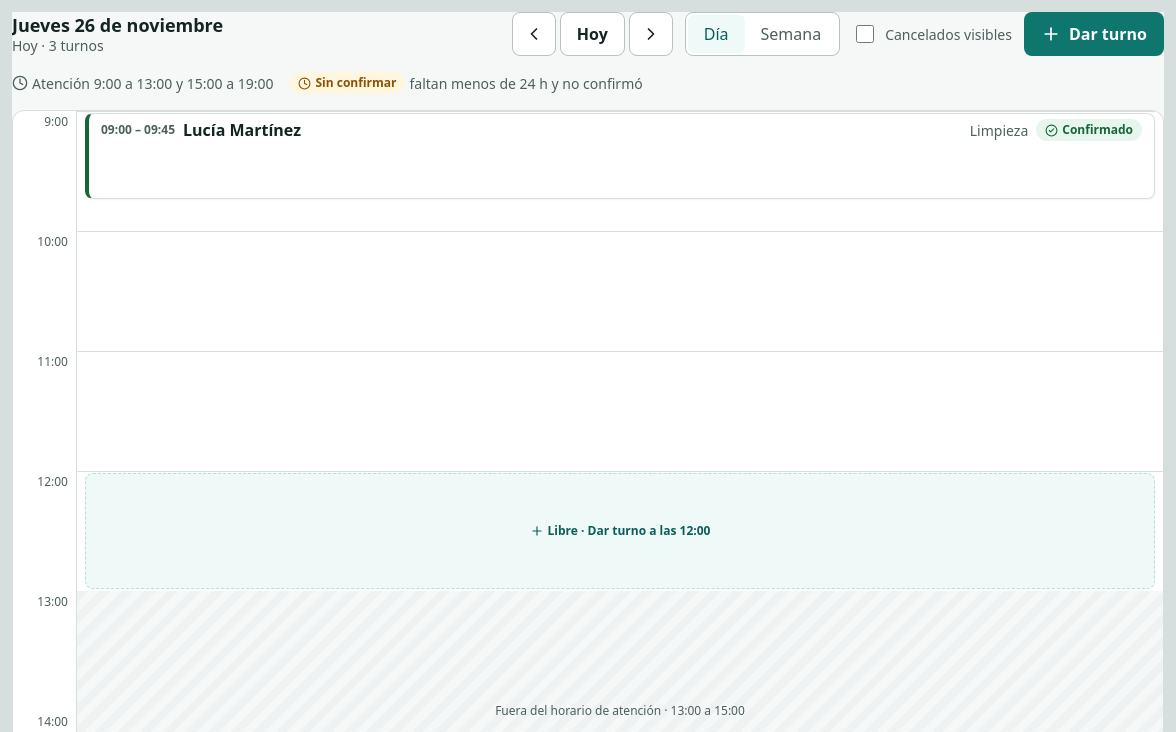
Scenario: vista dia › "Cancelados visibles" muestra los cancelados con su etiqueta
Expected: the element "Día Semana" is shown, [685,12,840,56]
Click the checkbox labelled "Cancelados visibles". click: [865, 34]
box: [856,25,874,43]
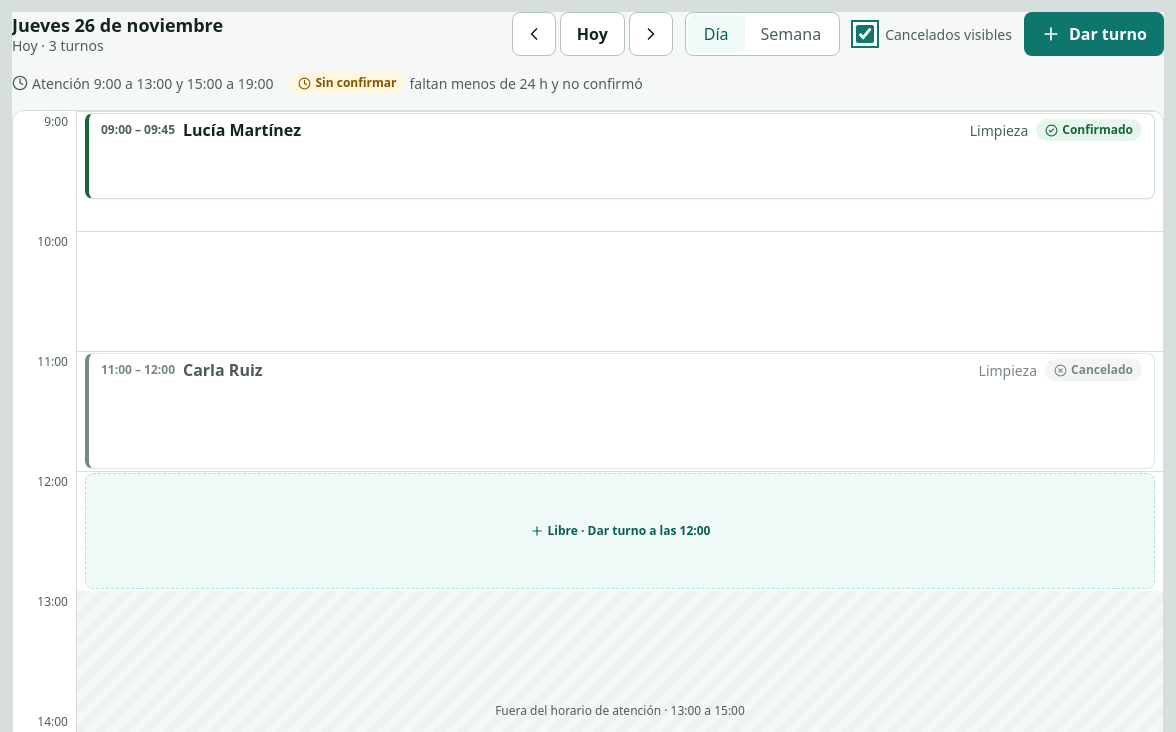
Now the button with aria-label "11:00, Carla Ruiz, Limpieza, Cancelado" is shown, box [85,353,1155,469]
